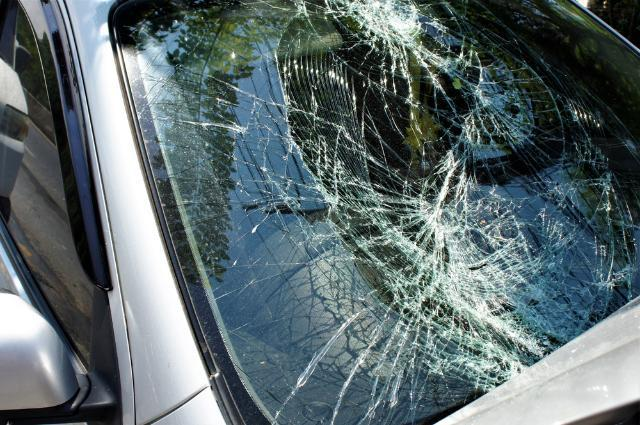glass shatter: (115, 0, 640, 425)
